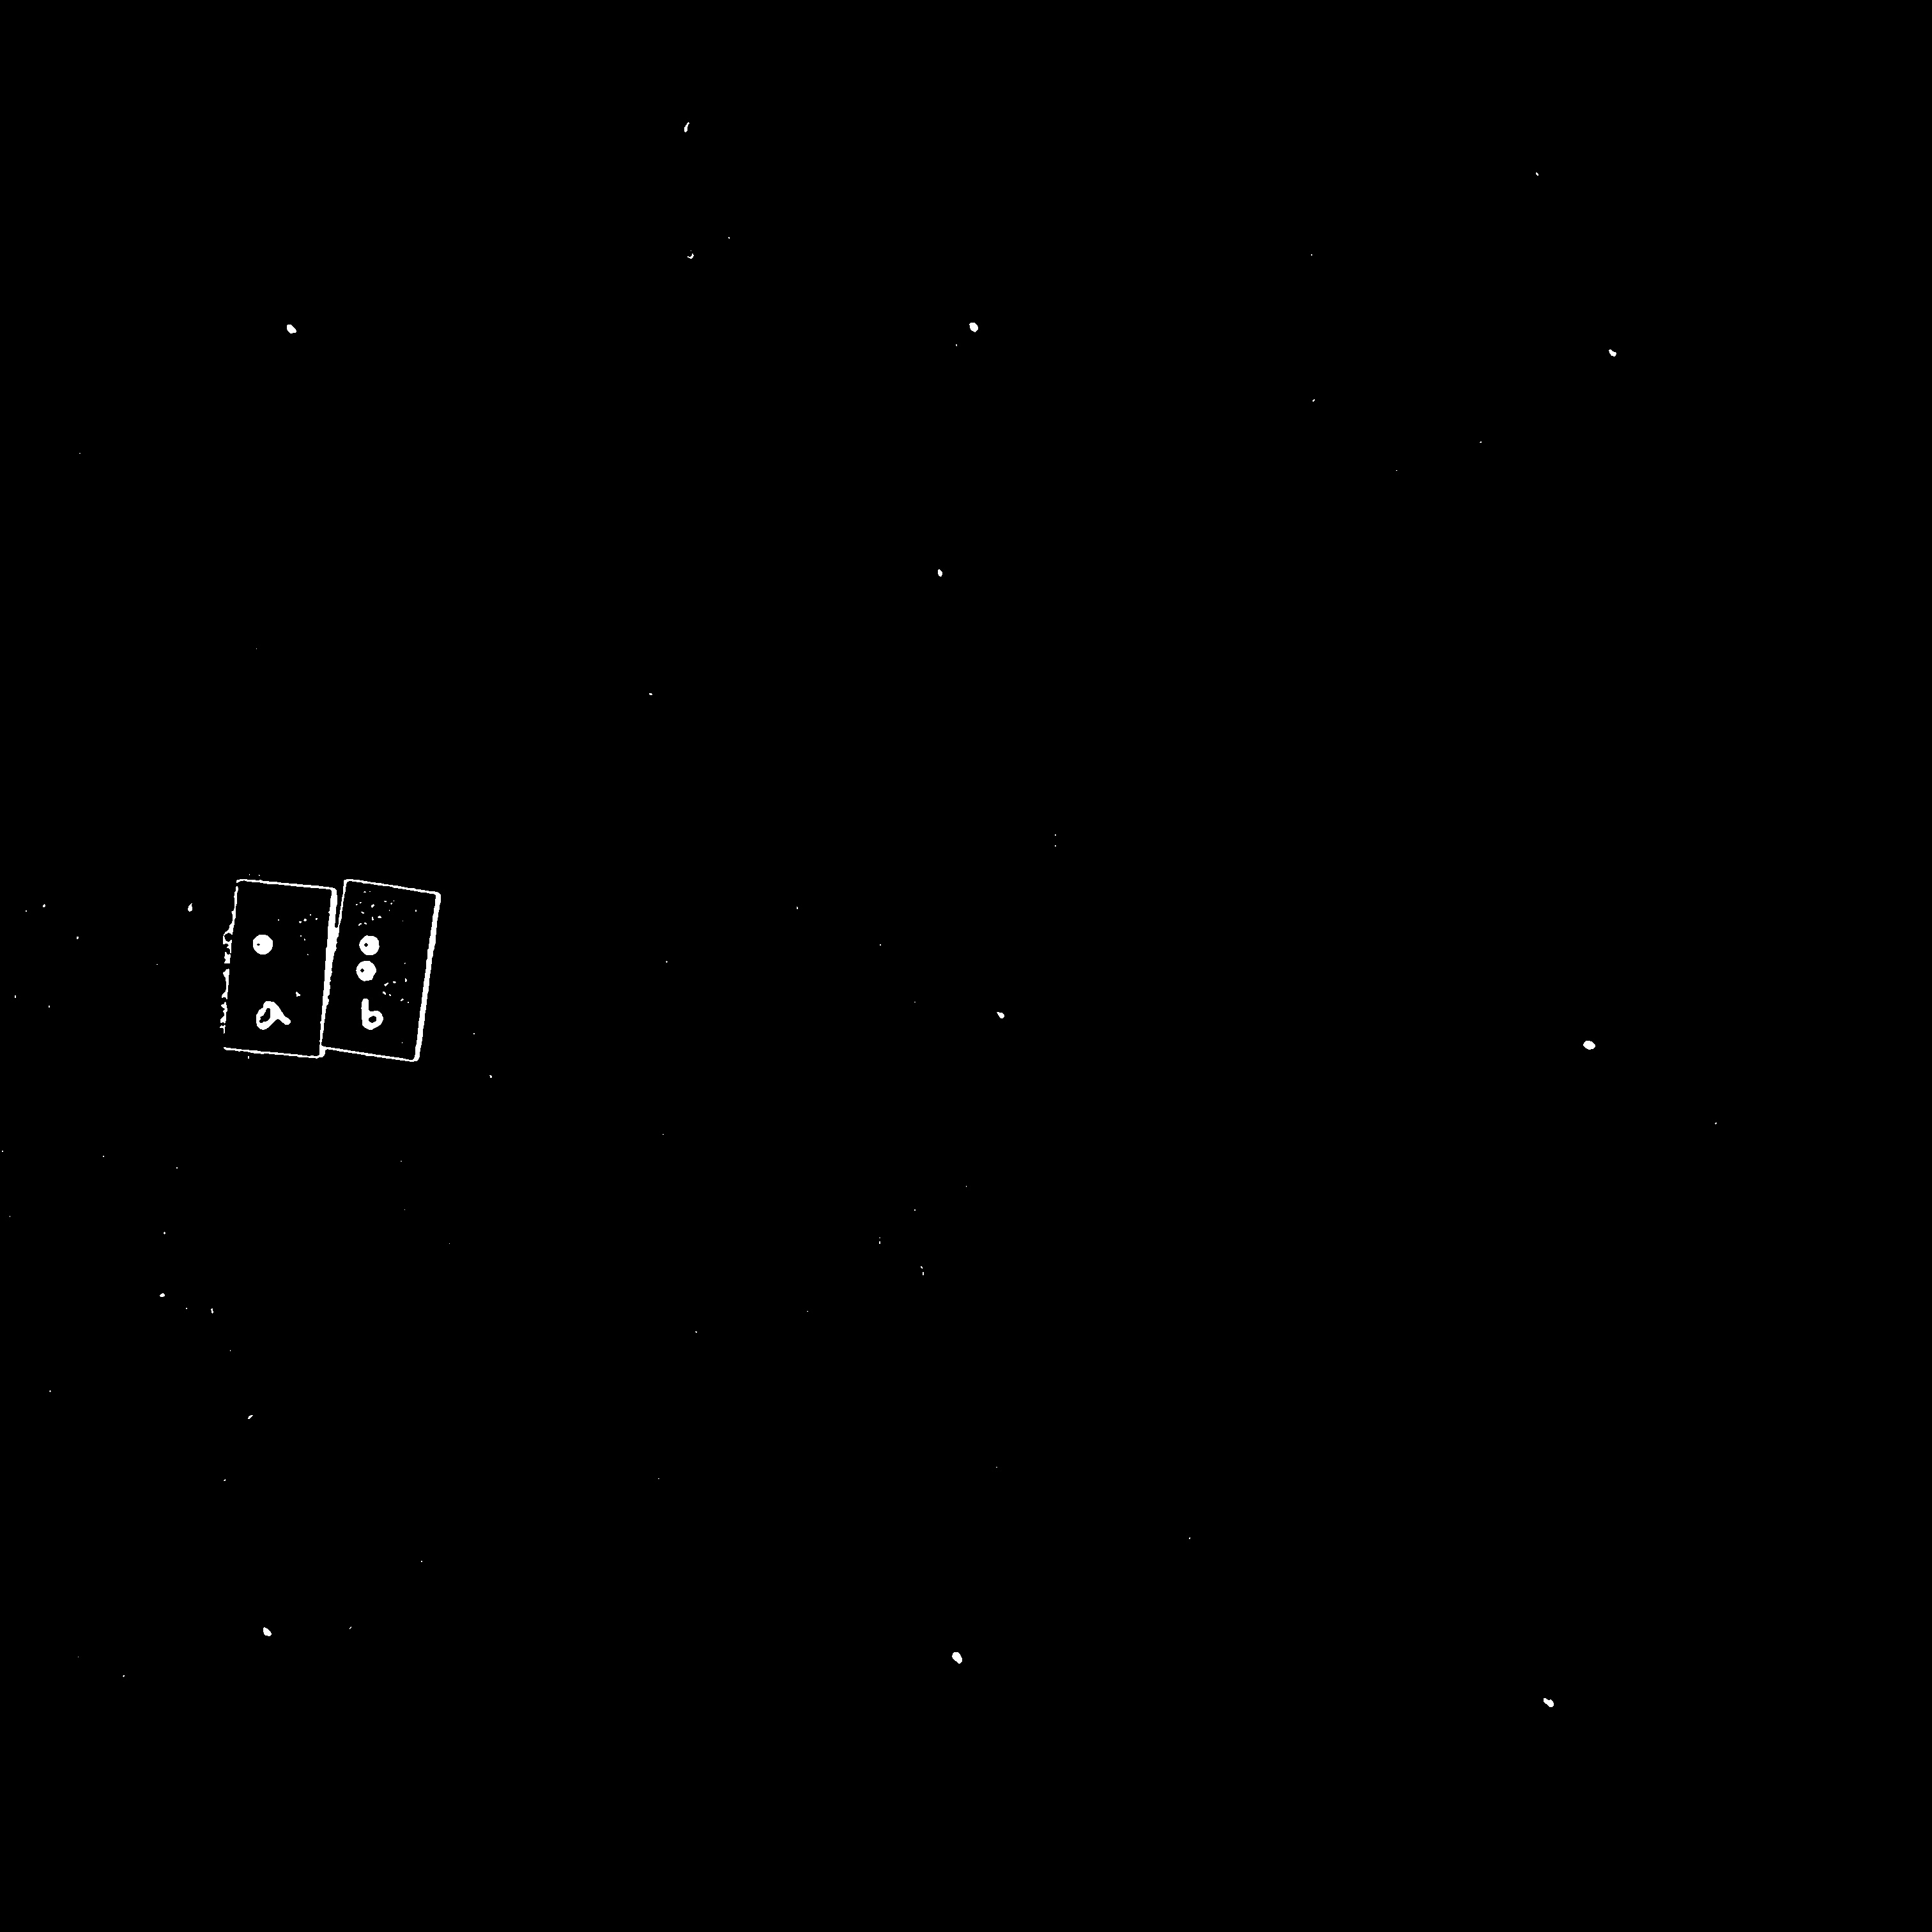a: (247, 923, 310, 999)
b: (350, 926, 414, 1006)
